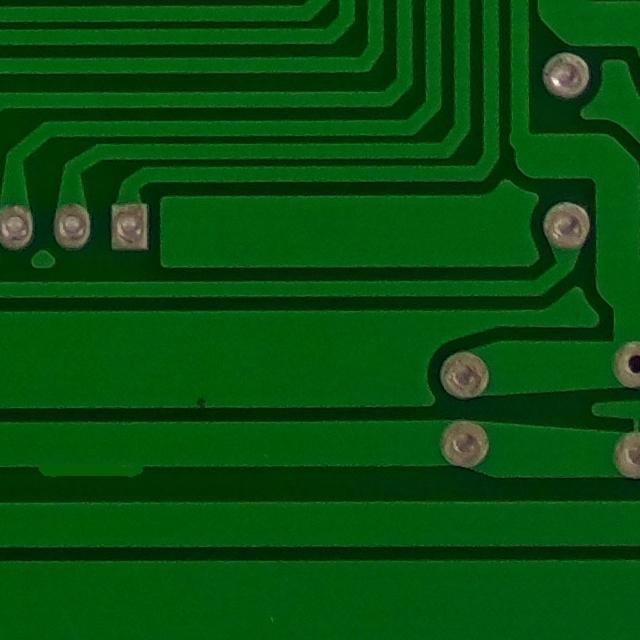spur: (23, 431, 157, 492)
